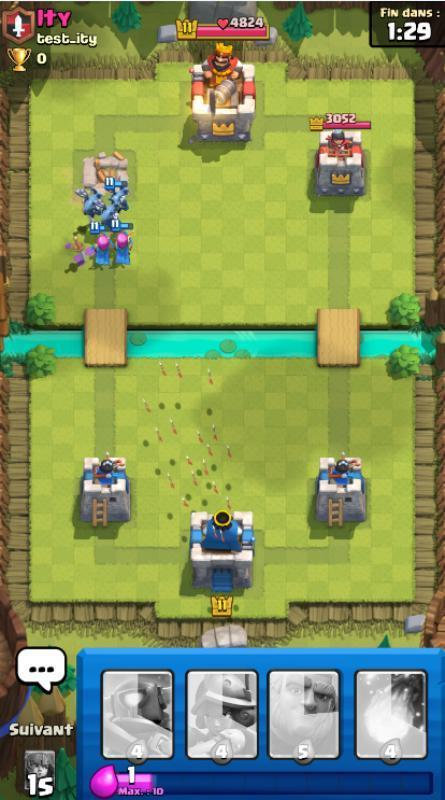player_archers: (111, 223, 135, 264), (89, 228, 113, 266)
player_minions: (76, 182, 108, 218), (102, 178, 130, 214)
